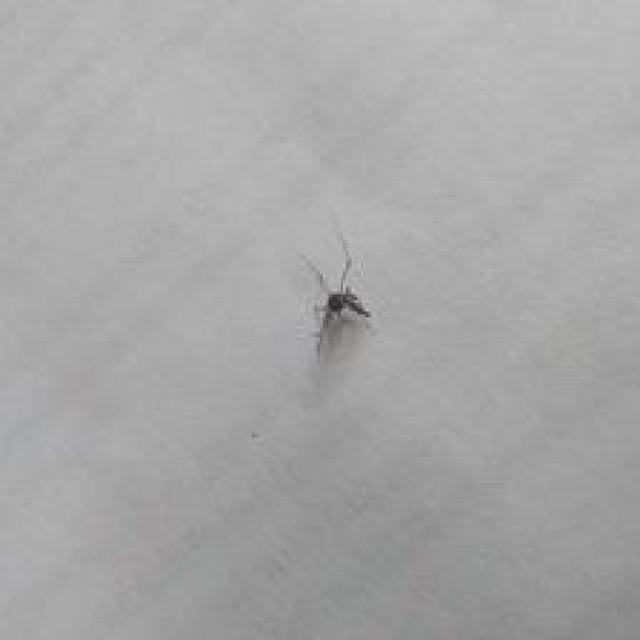Aedes albopictus: (298, 246, 373, 357)
